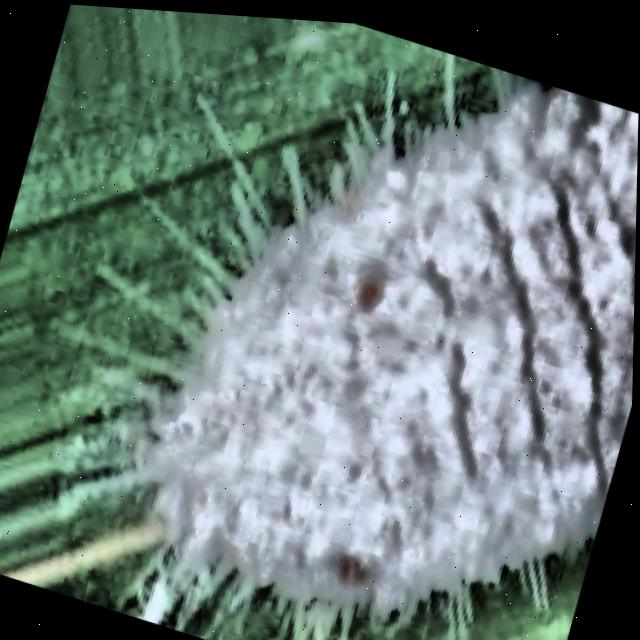Mealy-bug: (43, 3, 640, 640)
